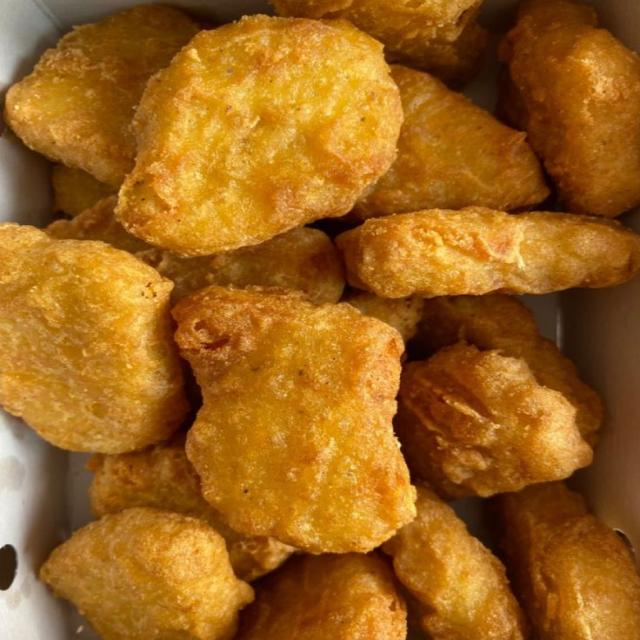potato fries: (117, 15, 403, 255), (172, 286, 415, 553), (0, 224, 189, 453), (5, 5, 198, 187), (45, 195, 344, 303), (87, 434, 297, 582), (350, 65, 549, 220), (498, 0, 639, 218), (395, 343, 591, 498), (412, 294, 603, 445), (41, 508, 253, 639), (337, 207, 639, 297), (491, 482, 639, 639), (383, 486, 524, 639), (269, 0, 488, 87), (235, 552, 406, 639), (342, 289, 423, 342), (52, 163, 117, 216)
